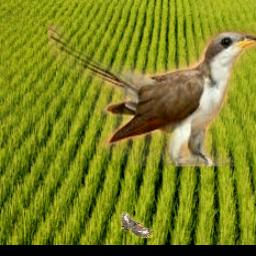Cuckoo: (48, 23, 256, 166)
Woodpecker: (120, 212, 153, 239)
